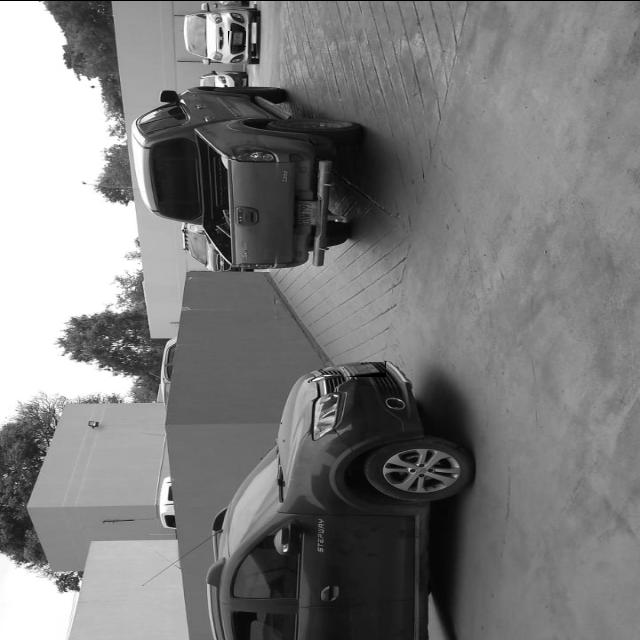plate: (293, 199, 321, 225), (344, 361, 386, 375), (228, 30, 246, 46)
